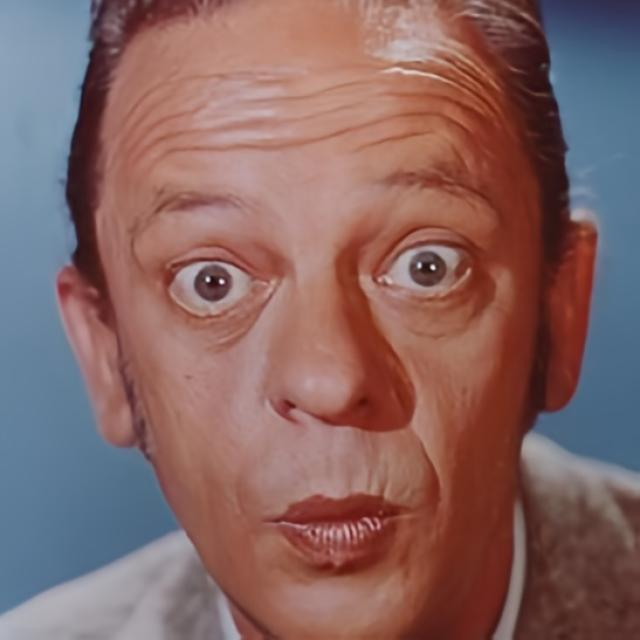surprise: (87, 0, 546, 640)
